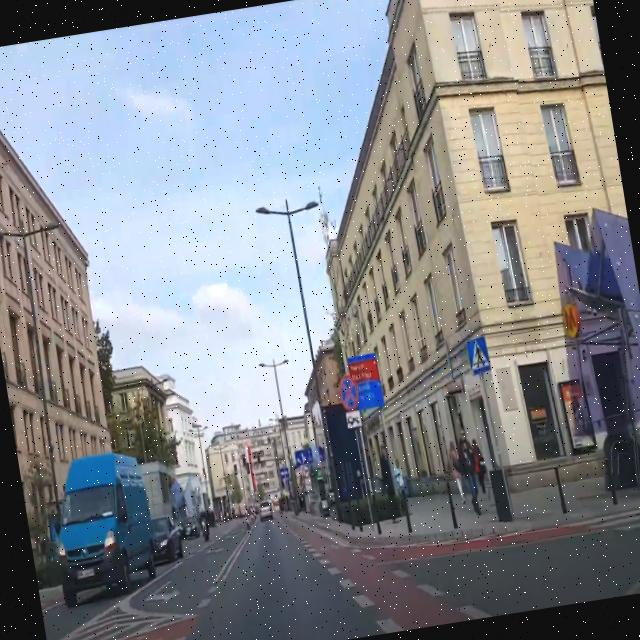Przejscie dla pieszych: (465, 336, 492, 375)
Zakaz zatrzymywania sie: (336, 372, 360, 412)
